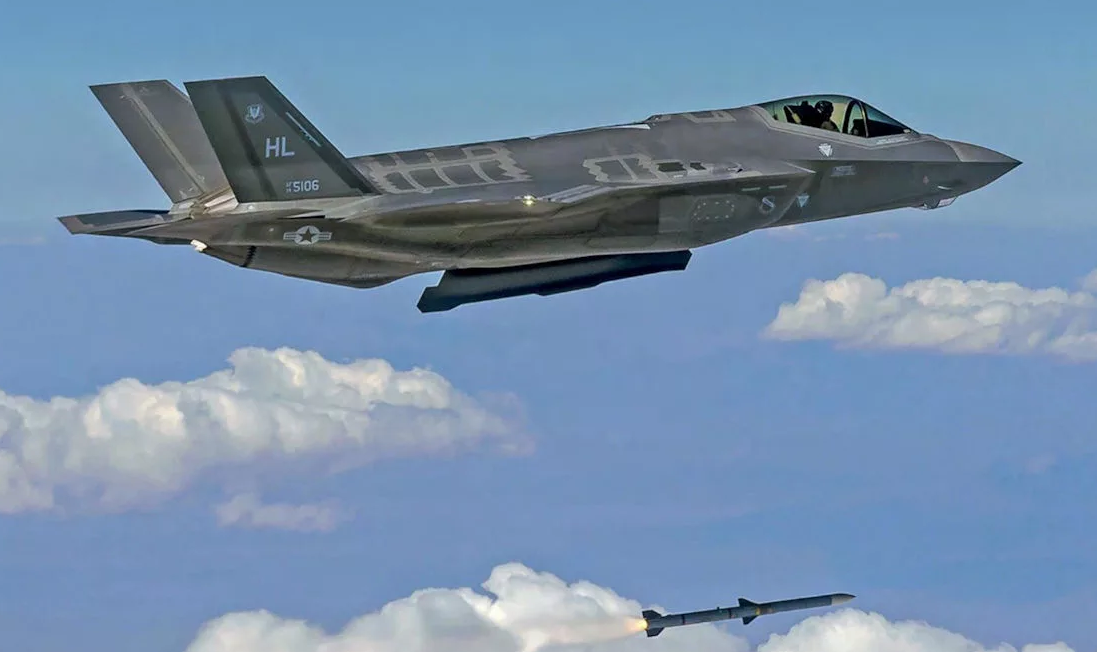F35: (57, 72, 1022, 320)
